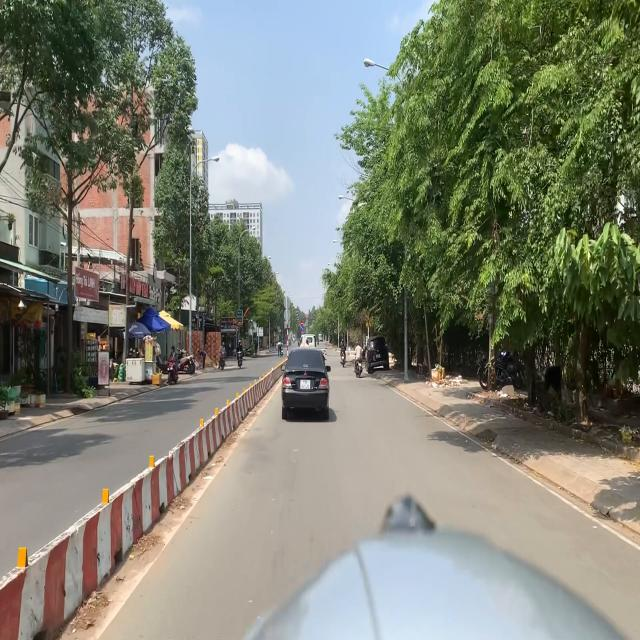Cam nguoc chieu: (300, 321, 304, 326)
Hieu lenh: (300, 326, 304, 331)
